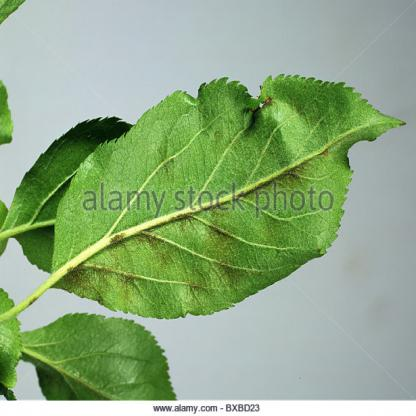apple scab leaf: (51, 63, 401, 317)
